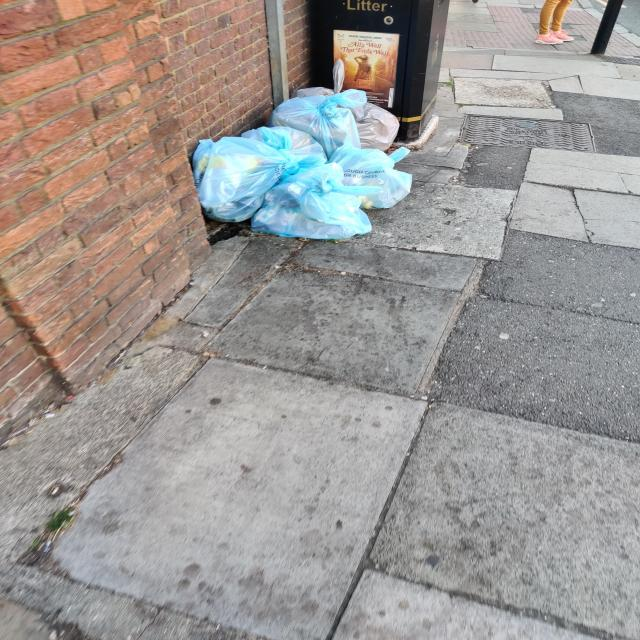litter: (193, 89, 413, 238)
